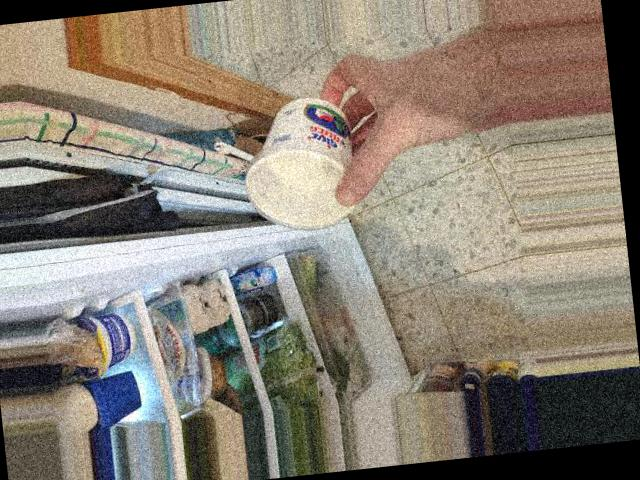cotage: (244, 92, 366, 223)
